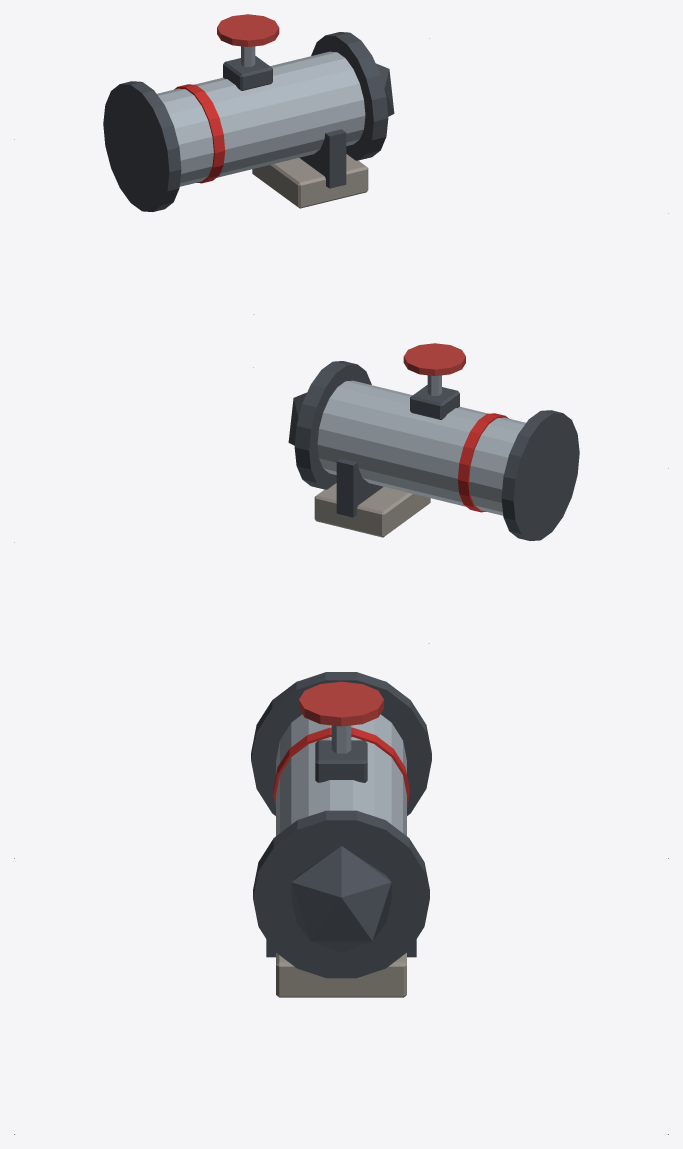
Rendered from tuyau_bout_t3.glb.
3 renders of one model, top to bottom at view 1: azimuth 30°, elevation 25°; view 2: azimuth 150°, elevation 25°; view 3: azimuth 270°, elevation 25°, orthographic. The views are drawn at different scales.
Visible parts, largest first — view 1: pieces_inox.014, pieces_acier_sombre.044, pieces_beton.044, pieces_rouge.008, pieces_rive_t3.014; view 2: pieces_inox.014, pieces_acier_sombre.044, pieces_beton.044, pieces_rouge.008, pieces_rive_t3.014; view 3: pieces_acier_sombre.044, pieces_inox.014, pieces_beton.044, pieces_rouge.008, pieces_rive_t3.014.
Part boxes in pixels (bbox=[...]): pieces_inox.014: bbox=[157, 51, 365, 186]; pieces_acier_sombre.044: bbox=[103, 32, 394, 211]; pieces_beton.044: bbox=[252, 154, 368, 208]; pieces_rouge.008: bbox=[217, 14, 279, 46]; pieces_rive_t3.014: bbox=[174, 84, 225, 183]; pieces_inox.014: bbox=[317, 380, 525, 515]; pieces_acier_sombre.044: bbox=[288, 361, 579, 540]; pieces_beton.044: bbox=[314, 483, 430, 537]; pieces_rouge.008: bbox=[403, 343, 465, 375]; pieces_rive_t3.014: bbox=[457, 413, 508, 512]; pieces_acier_sombre.044: bbox=[251, 672, 431, 978]; pieces_inox.014: bbox=[276, 714, 406, 835]; pieces_beton.044: bbox=[276, 953, 406, 997]; pieces_rouge.008: bbox=[299, 681, 383, 726]; pieces_rive_t3.014: bbox=[273, 727, 409, 807].
Bounding box in the file's own units: 1 × 0.395 × 1.
